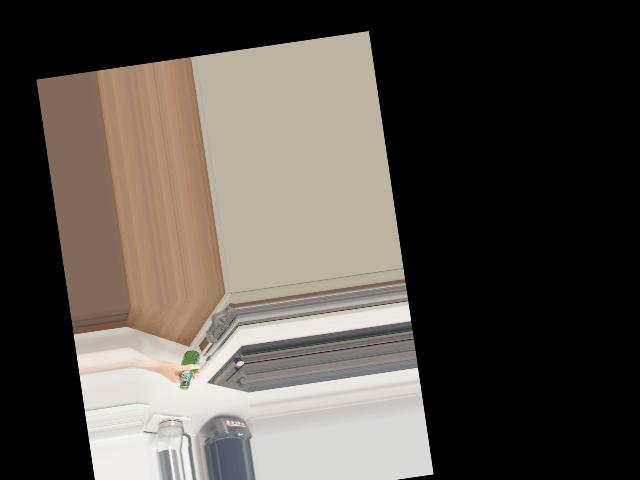beer: (174, 348, 203, 389)
